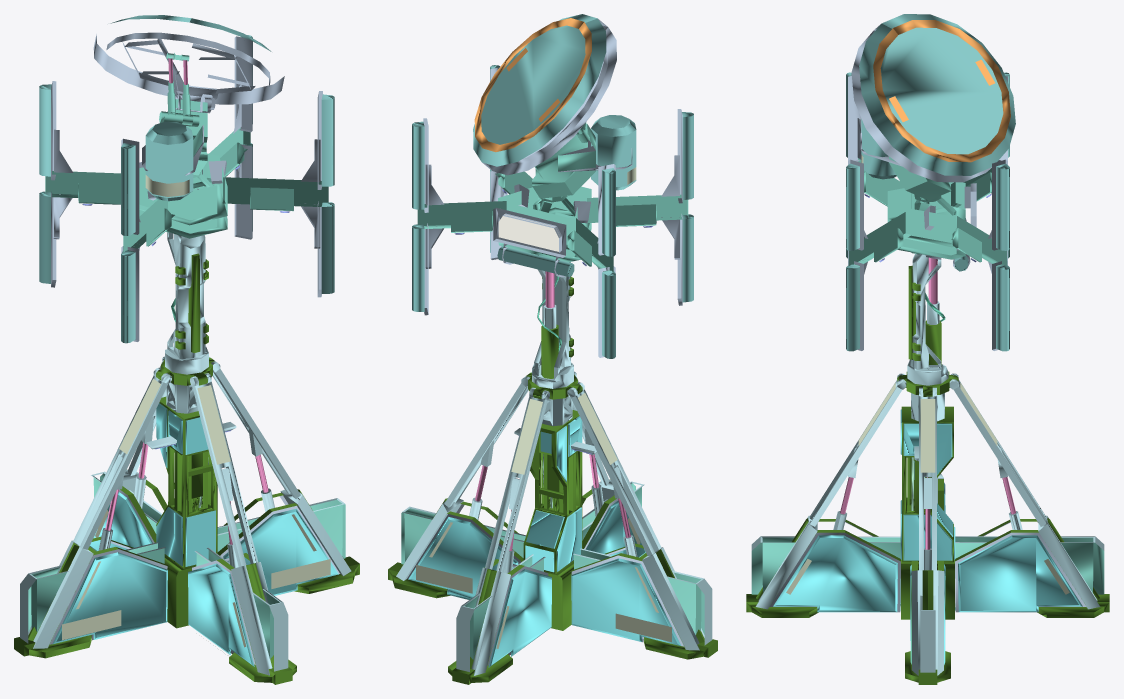
Rendered from fs_coms_tower_1_a.glb.
3 views of the same model, side by side, from view 1: azimuth 30°, elevation 25°; view 2: azimuth 150°, elevation 25°; view 3: azimuth 270°, elevation 25° (orthographic). The views are drawn at different scales.
Size of the model in its own units: 6 by 10.47 by 6.
